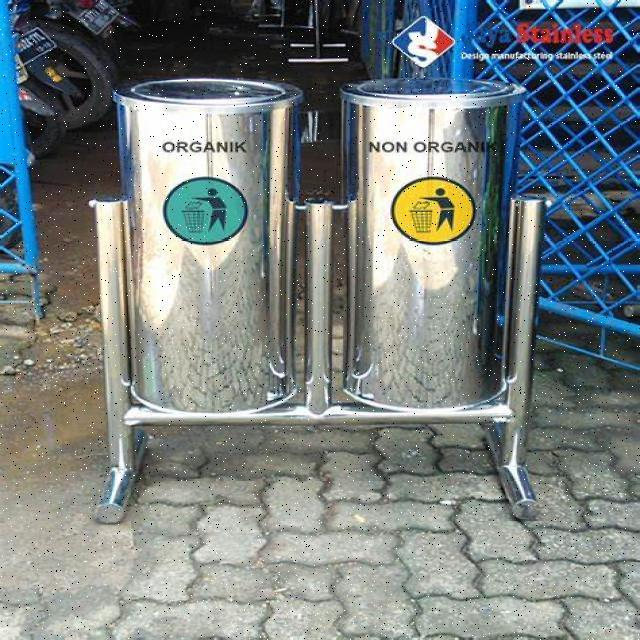garbage container: (72, 66, 343, 430), (326, 52, 536, 434)
